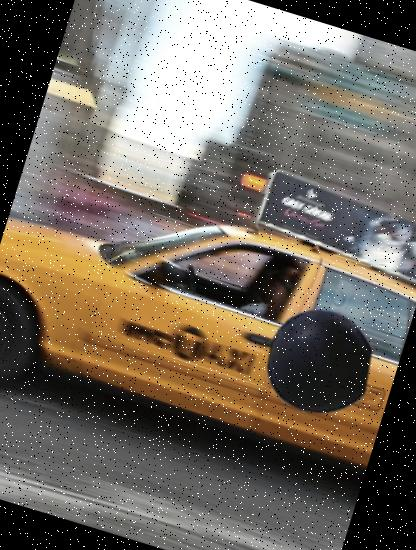Grape: (252, 294, 386, 428)
